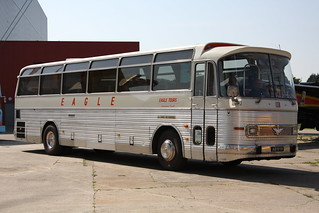bus: (13, 42, 299, 170)
